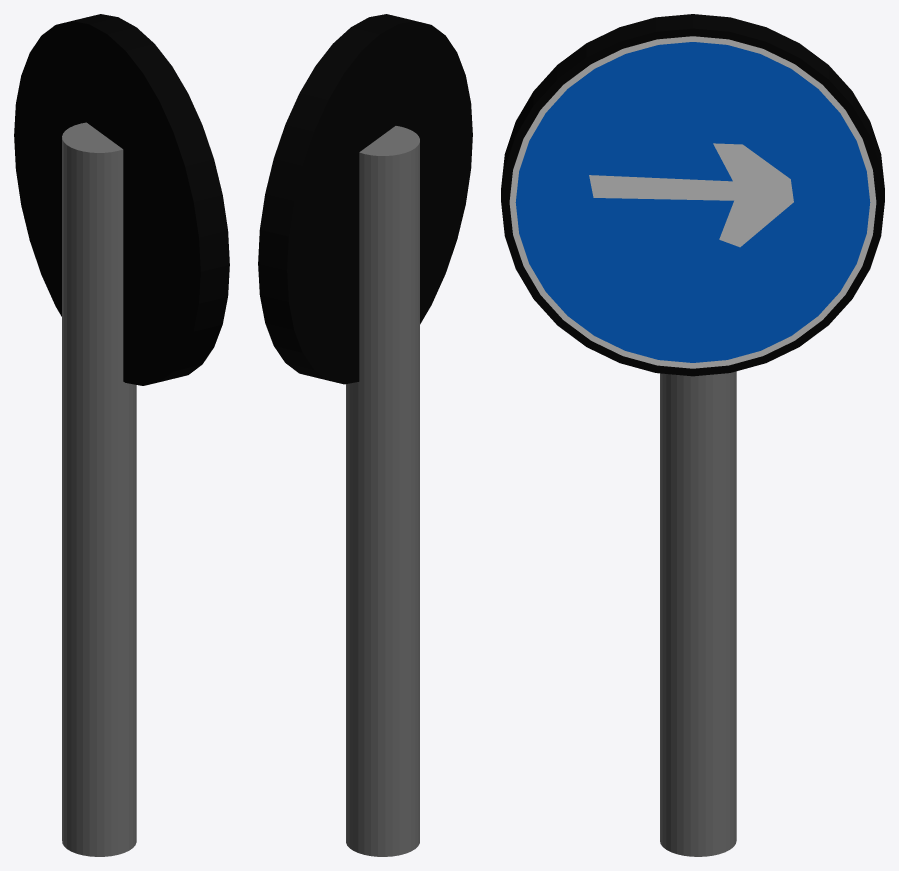
Rendered from go_right.fbx.
3 views of the same model, side by side, from view 1: azimuth 30°, elevation 25°; view 2: azimuth 150°, elevation 25°; view 3: azimuth 270°, elevation 25° (orthographic). The views are drawn at different scales.
Parts seen in each view (by area): view 1: Cylinder, Circle; view 2: Cylinder, Circle; view 3: Circle, Cylinder.
Boxes of the visible parts, bbox=[...] form: Cylinder: bbox=[62, 122, 136, 856]; Circle: bbox=[14, 14, 229, 385]; Cylinder: bbox=[346, 126, 419, 856]; Circle: bbox=[258, 14, 472, 384]; Circle: bbox=[501, 14, 884, 376]; Cylinder: bbox=[660, 371, 736, 856].
Size of the model in its own units: 2.07 by 23.85 by 10.
